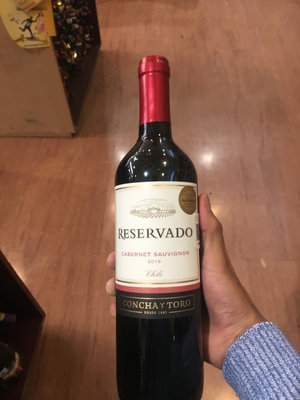reservado cabernet sauvignon: (103, 50, 227, 399)
